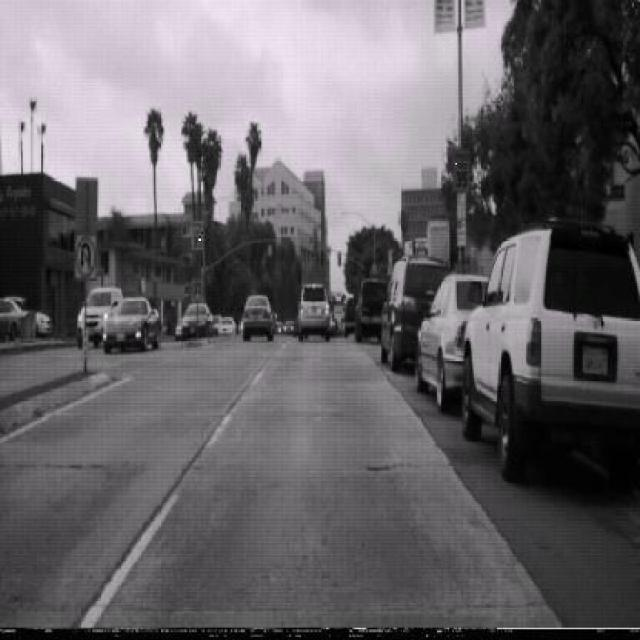speedLimit35: (451, 145, 470, 191), (190, 217, 204, 250)
